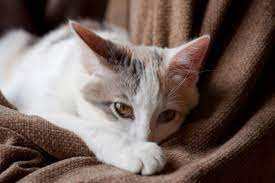cat: (48, 9, 240, 160)
